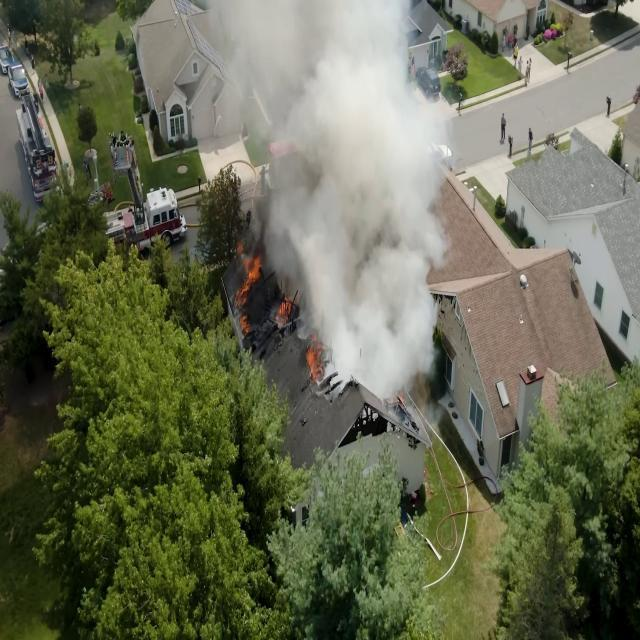Smoke: (295, 42, 430, 215), (322, 166, 416, 374), (238, 0, 382, 108)
